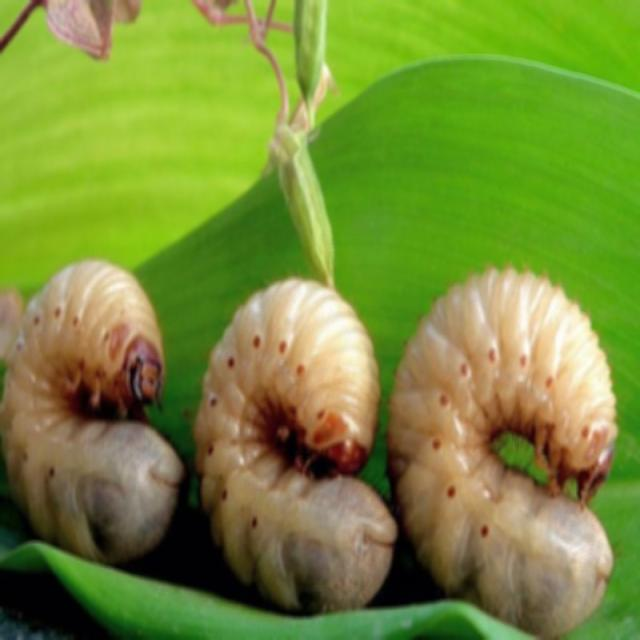grub: (386, 271, 629, 632), (203, 264, 406, 612), (6, 263, 189, 568)
